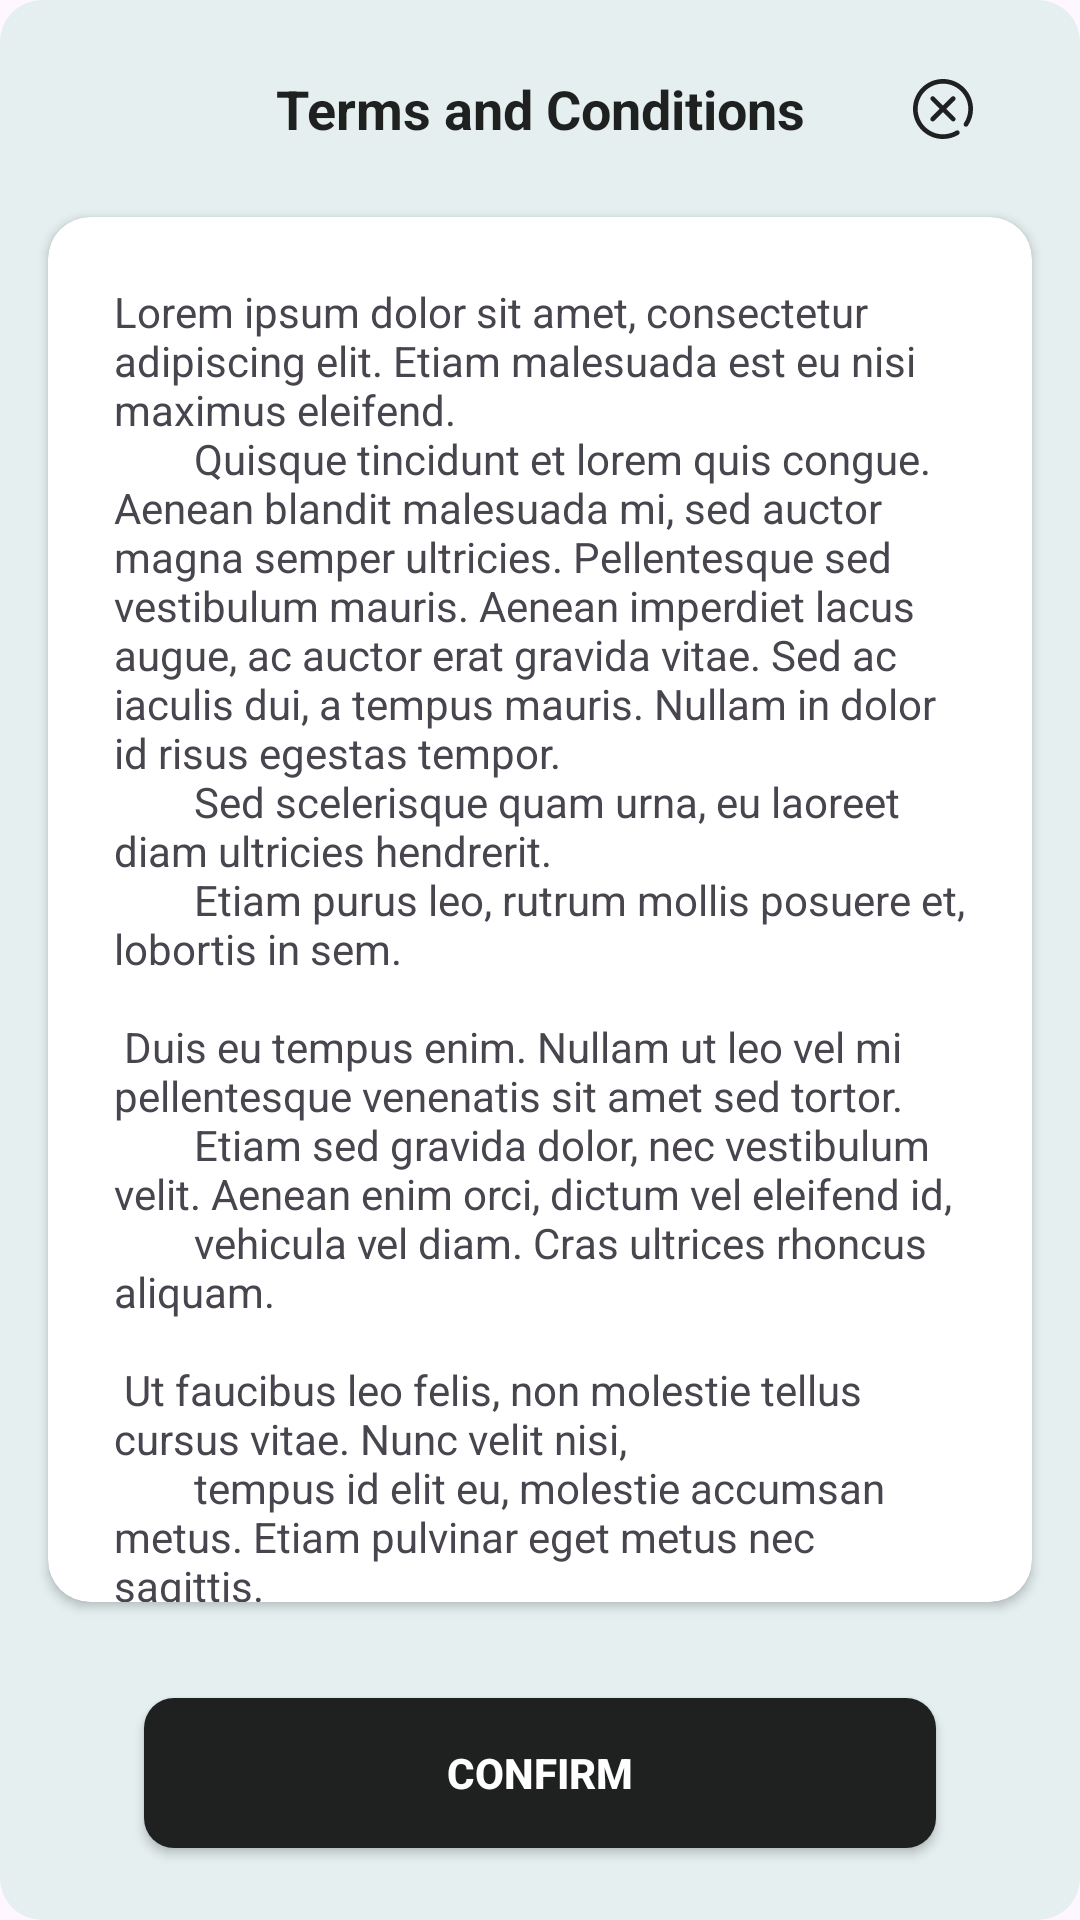

Screen size 1080*1920. Icon name, then its box in pixels as (x1, y1, x2, y2):
cancel: (913, 79, 973, 139)
